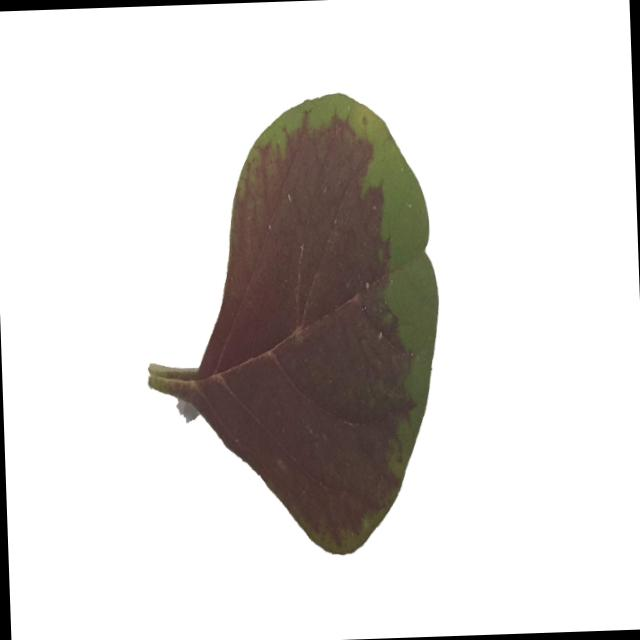Medicinal-Arive Dantu: (138, 83, 449, 561)
